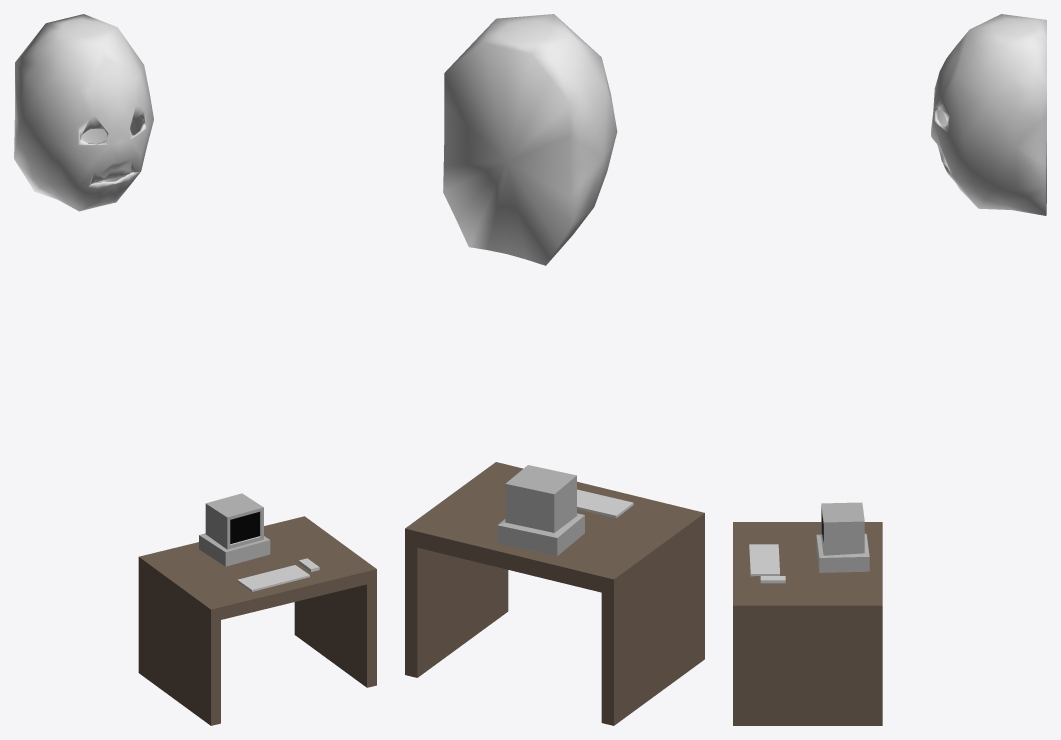
File: forest.fbx
3 views of the same model, side by side, from view 1: azimuth 30°, elevation 25°; view 2: azimuth 150°, elevation 25°; view 3: azimuth 270°, elevation 25° (orthographic). The views are drawn at different scales.
Visible parts, largest first — view 1: Cube, Head, Cube.001, Cube.002; view 2: Cube, Head, Cube.001, Cube.002; view 3: Cube, Head, Cube.001, Cube.002.
Part boxes in pixels (left/top/right/bottom): Cube: left=138, top=516, right=376, bottom=725; Head: left=14, top=14, right=153, bottom=211; Cube.001: left=199, top=493, right=270, bottom=566; Cube.002: left=237, top=565, right=309, bottom=591; Cube: left=405, top=462, right=704, bottom=725; Head: left=443, top=14, right=617, bottom=265; Cube.001: left=497, top=465, right=584, bottom=556; Cube.002: left=577, top=489, right=633, bottom=518; Cube: left=733, top=522, right=882, bottom=725; Head: left=931, top=14, right=1046, bottom=215; Cube.001: left=816, top=502, right=869, bottom=572; Cube.002: left=749, top=544, right=779, bottom=576.
Size of the model in its own units: 168 by 435 by 200.
